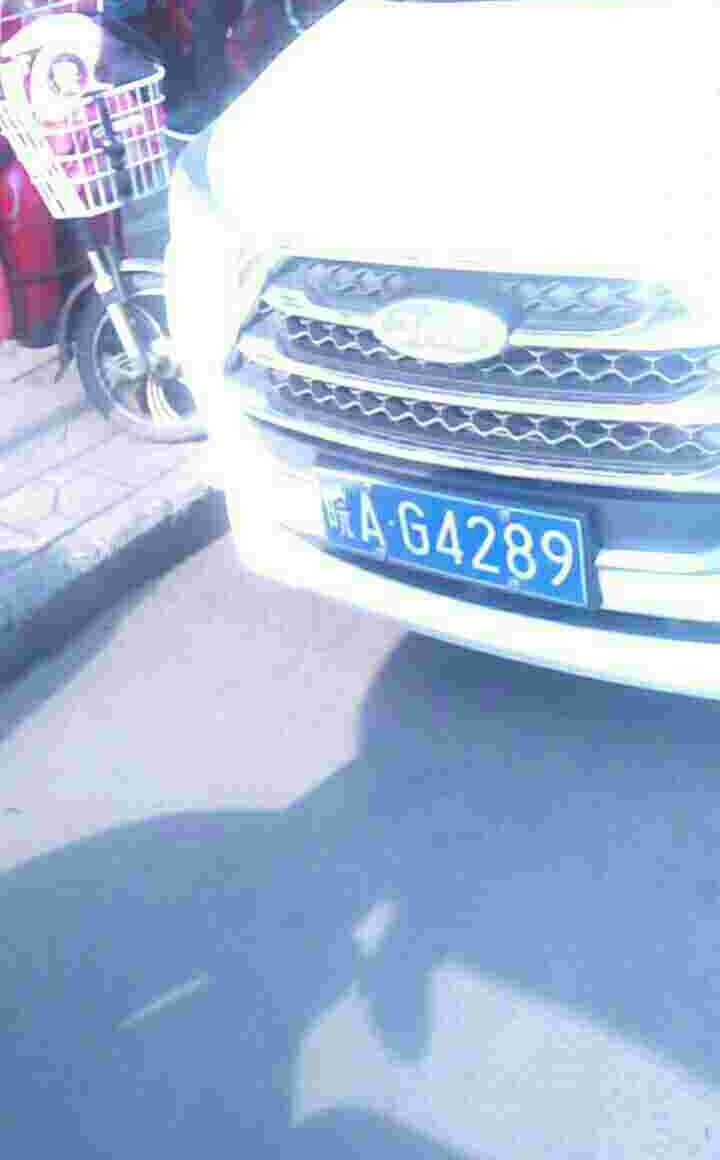license_plate: (322, 463, 600, 607)
